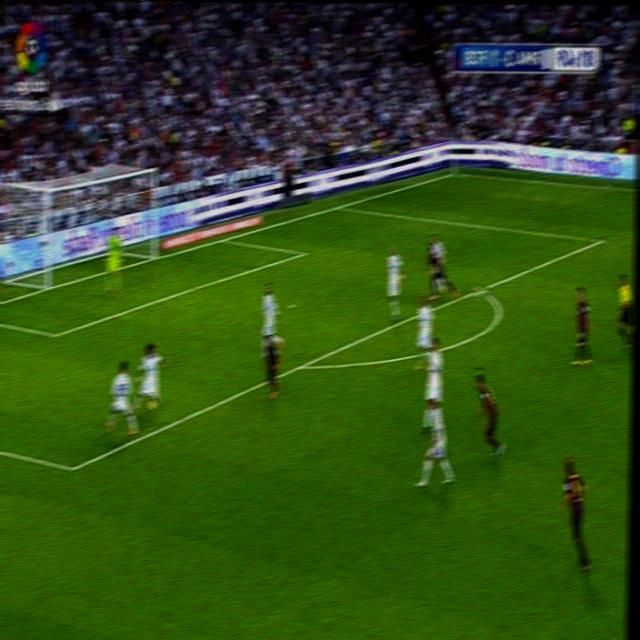bigarea_bottom_inner: (66, 458, 79, 480)
bigarea_top_inner: (596, 229, 608, 249)
corner: (448, 166, 460, 178)
top_arc_area_intersection: (474, 280, 489, 299)
